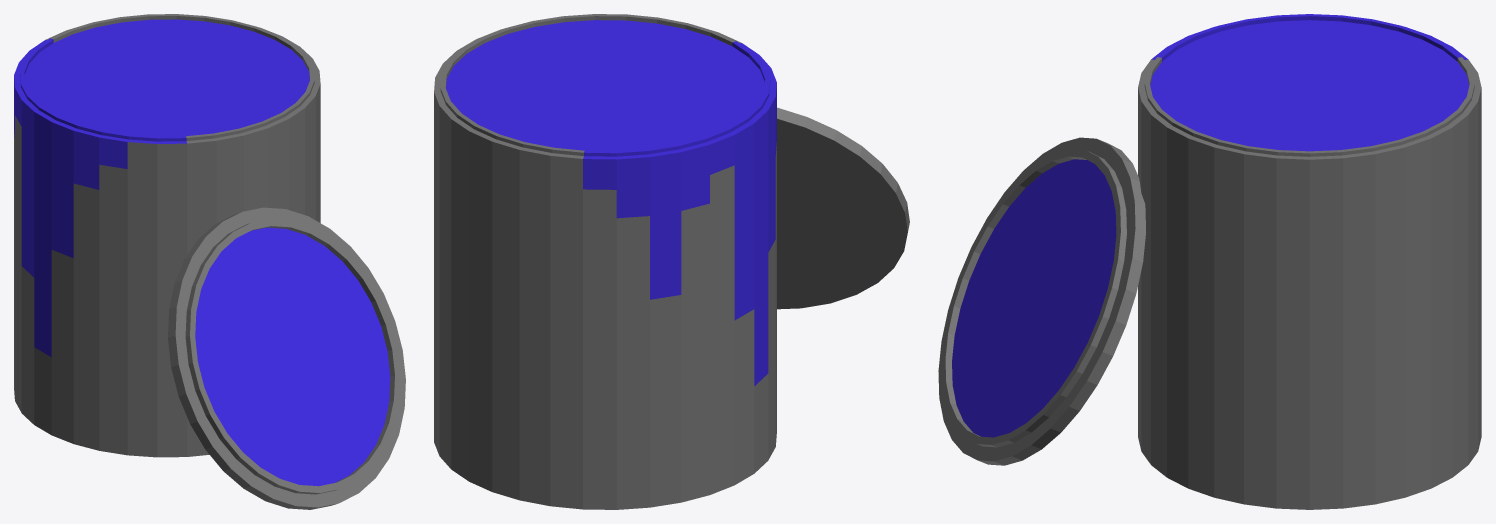
Rendered from paintTin.fbx.
3 views of the same model, side by side, from view 1: azimuth 30°, elevation 25°; view 2: azimuth 150°, elevation 25°; view 3: azimuth 270°, elevation 25° (orthographic). The views are drawn at different scales.
Visible parts, largest first — view 1: Cylinder, Cylinder.001; view 2: Cylinder, Cylinder.001; view 3: Cylinder, Cylinder.001.
Part boxes in pixels (box(x1,y1,x2,y2)): Cylinder: box(14, 14, 320, 457); Cylinder.001: box(168, 207, 405, 509); Cylinder: box(434, 14, 776, 509); Cylinder.001: box(777, 107, 909, 309); Cylinder: box(1138, 14, 1481, 509); Cylinder.001: box(938, 137, 1145, 465).
Bounding box in the file's own units: 200 × 228 × 316.
